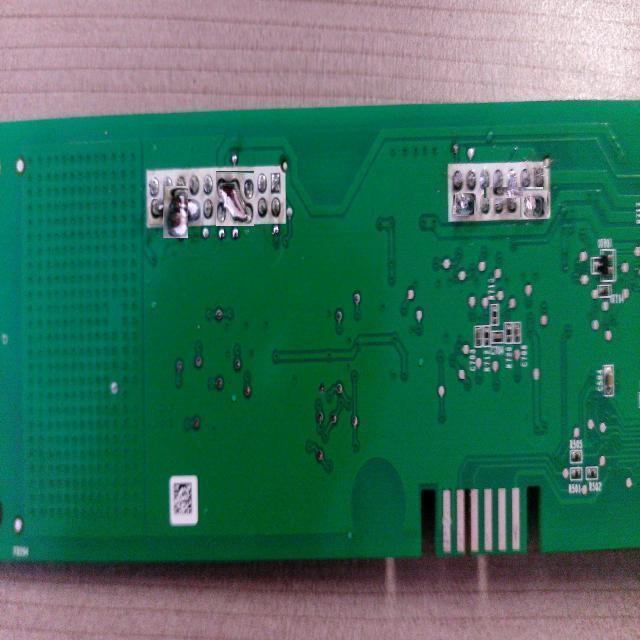Short_circuit: (216, 171, 254, 226), (156, 193, 194, 232), (496, 175, 531, 210), (521, 191, 549, 218), (454, 194, 475, 215)
